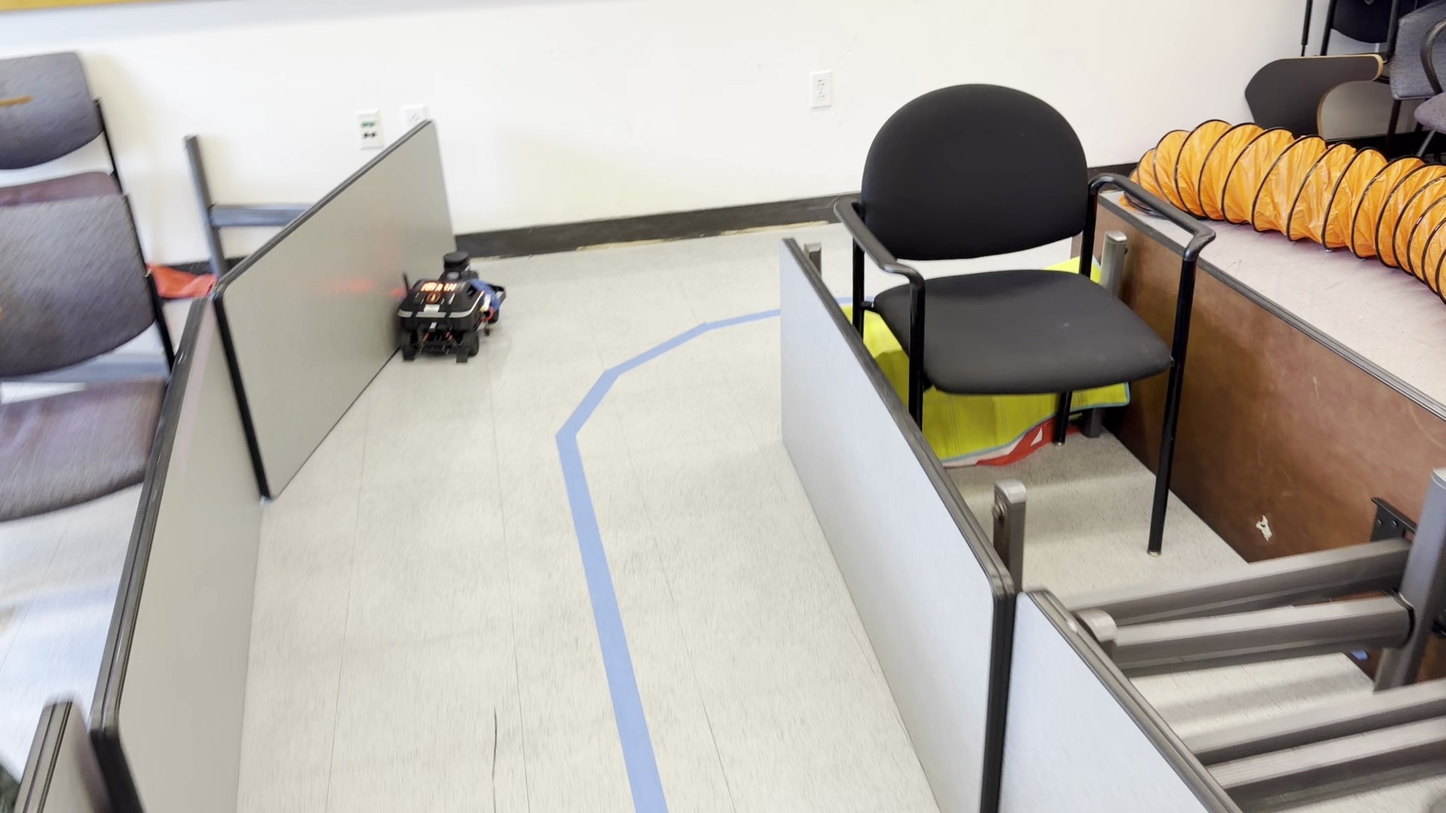racecar: (394, 251, 504, 362)
